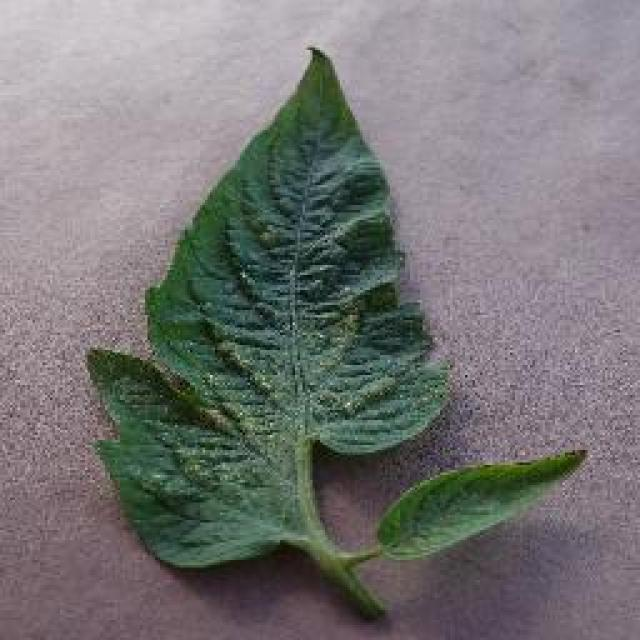Tomato spider mites leaf: (82, 44, 450, 568)
